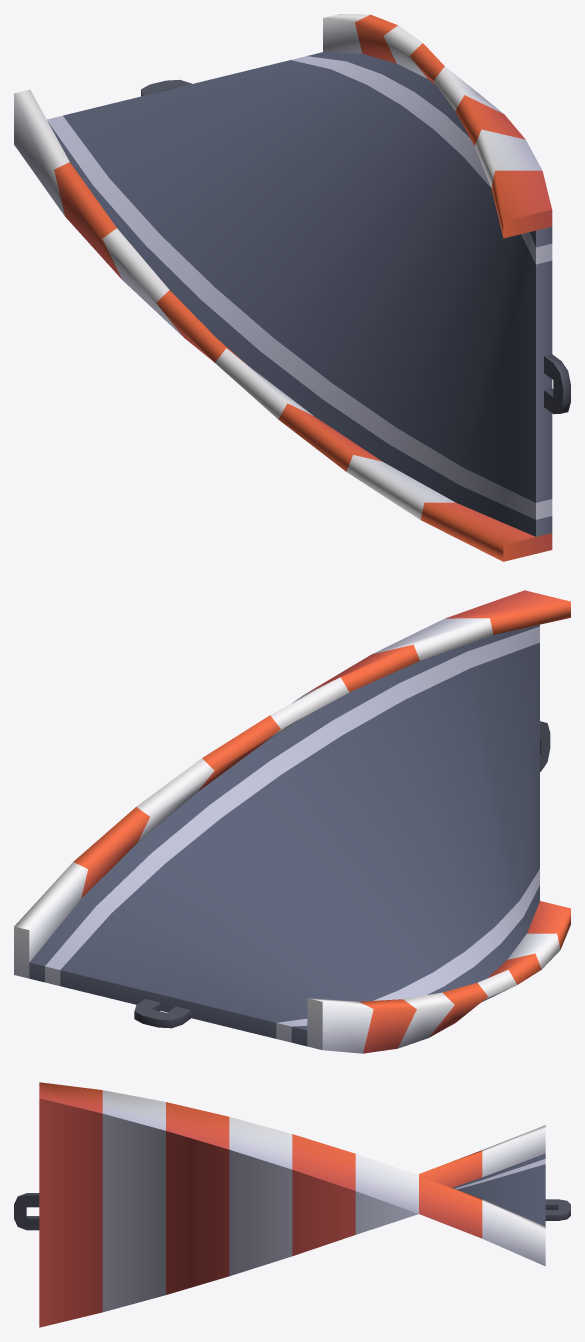
File: track-road-wide-straight-skew-right-side.glb
The picture shows the model from 3 angles, top to bottom: view 1: azimuth 30°, elevation 25°; view 2: azimuth 150°, elevation 25°; view 3: azimuth 270°, elevation 25°; orthographic projection. The views are drawn at different scales.
Visible parts, largest first — view 1: track-road-wide-straight-skew-right-side; view 2: track-road-wide-straight-skew-right-side; view 3: track-road-wide-straight-skew-right-side.
Boxes of the visible parts, bbox=[...] form: track-road-wide-straight-skew-right-side: bbox=[14, 14, 570, 561]; track-road-wide-straight-skew-right-side: bbox=[14, 590, 570, 1053]; track-road-wide-straight-skew-right-side: bbox=[14, 1082, 570, 1327].
Size of the model in its own units: 2.04 by 2.04 by 4.4.
Materials: 1 (1 with a texture image).
